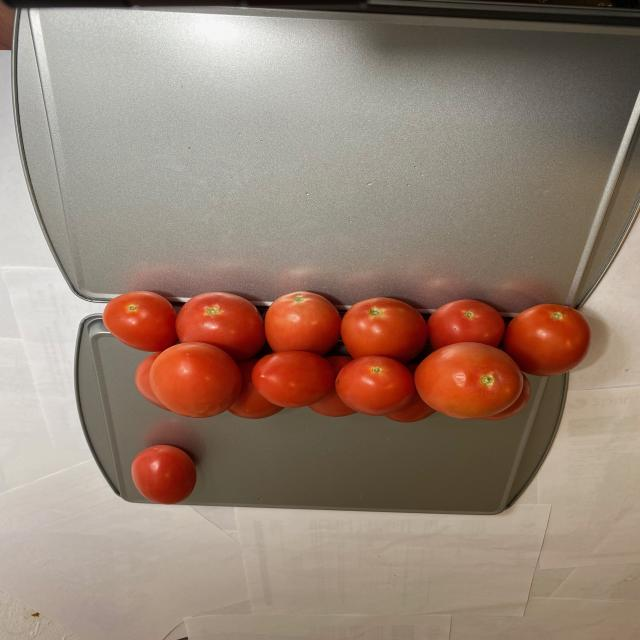tomato: (103, 288, 602, 422), (125, 442, 204, 505)
